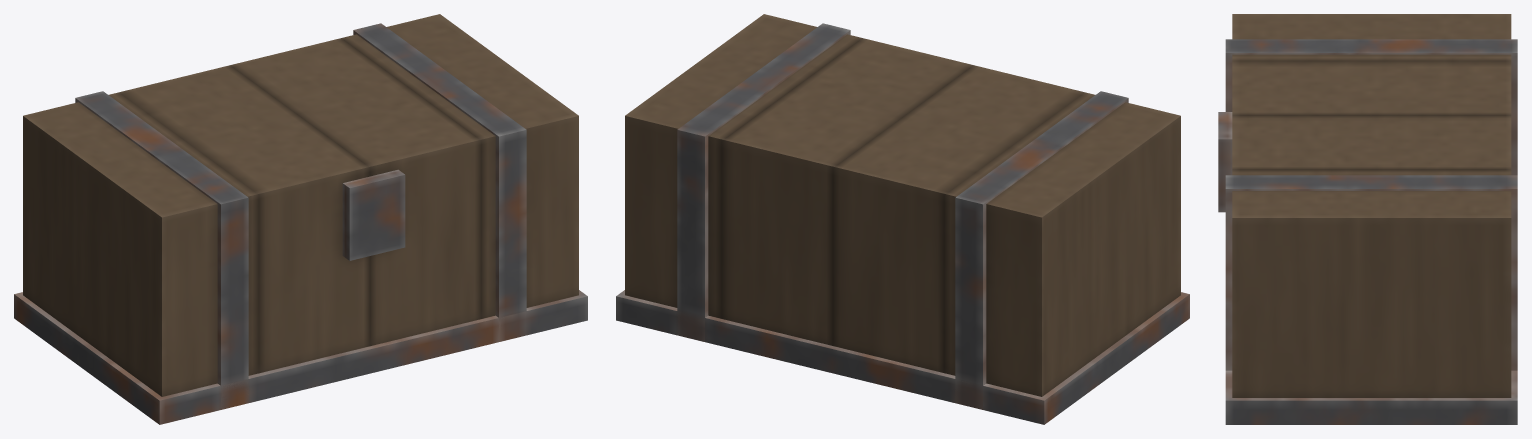
File: coffre.fbx
3 views of the same model, side by side, from view 1: azimuth 30°, elevation 25°; view 2: azimuth 150°, elevation 25°; view 3: azimuth 270°, elevation 25° (orthographic).
Visible parts, largest first — view 1: coffre; view 2: coffre; view 3: coffre.
Part boxes in pixels (box(x1,y1,x2,y2)): coffre: box(14, 14, 587, 424); coffre: box(616, 14, 1189, 424); coffre: box(1218, 14, 1517, 424).
Bounding box in the file's own units: 0.924 × 0.424 × 0.558.
Materials: 1 (1 with a texture image).
